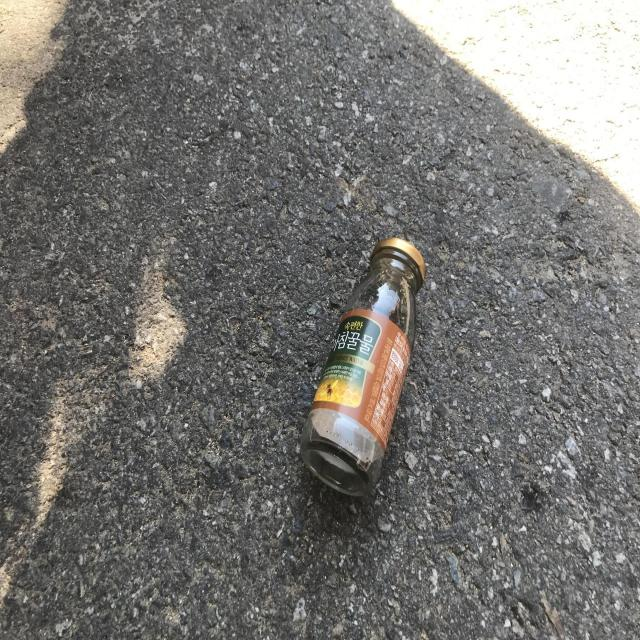glass: (301, 237, 426, 496)
